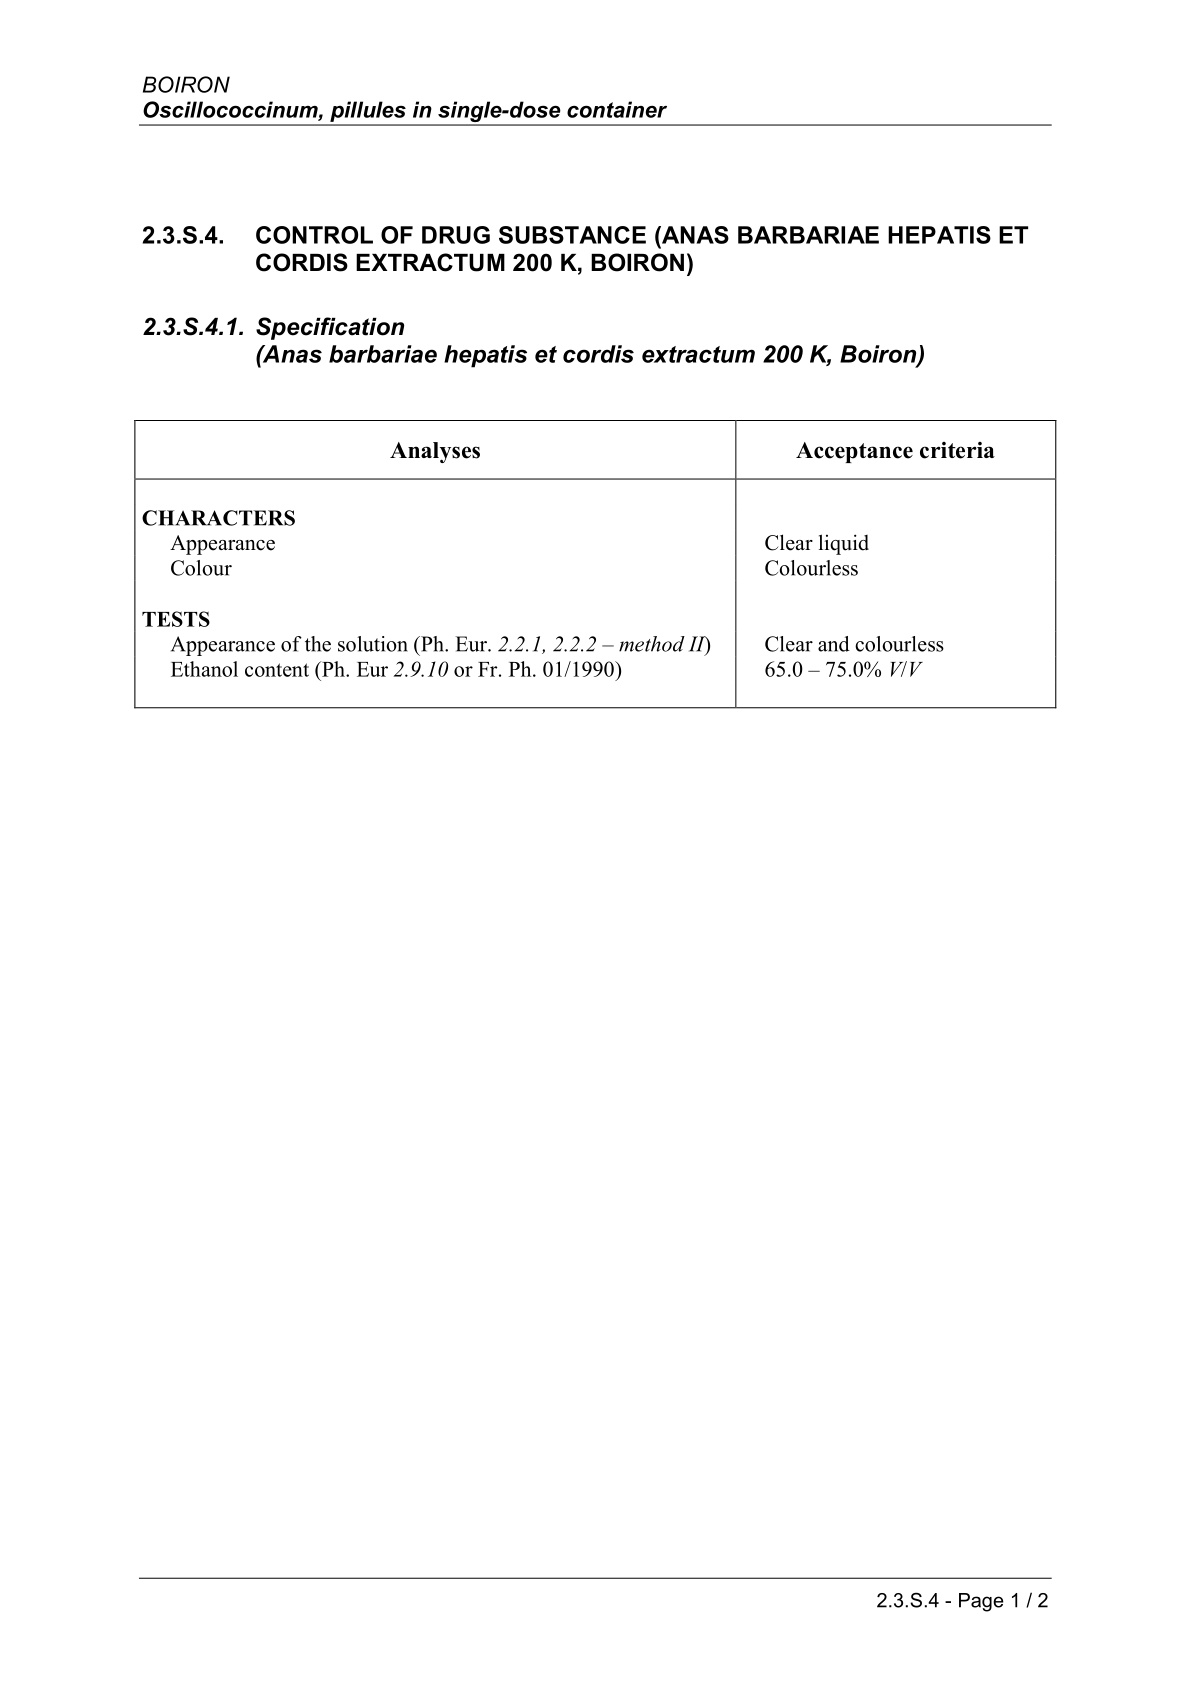full_lined: (131, 417, 1058, 710)
